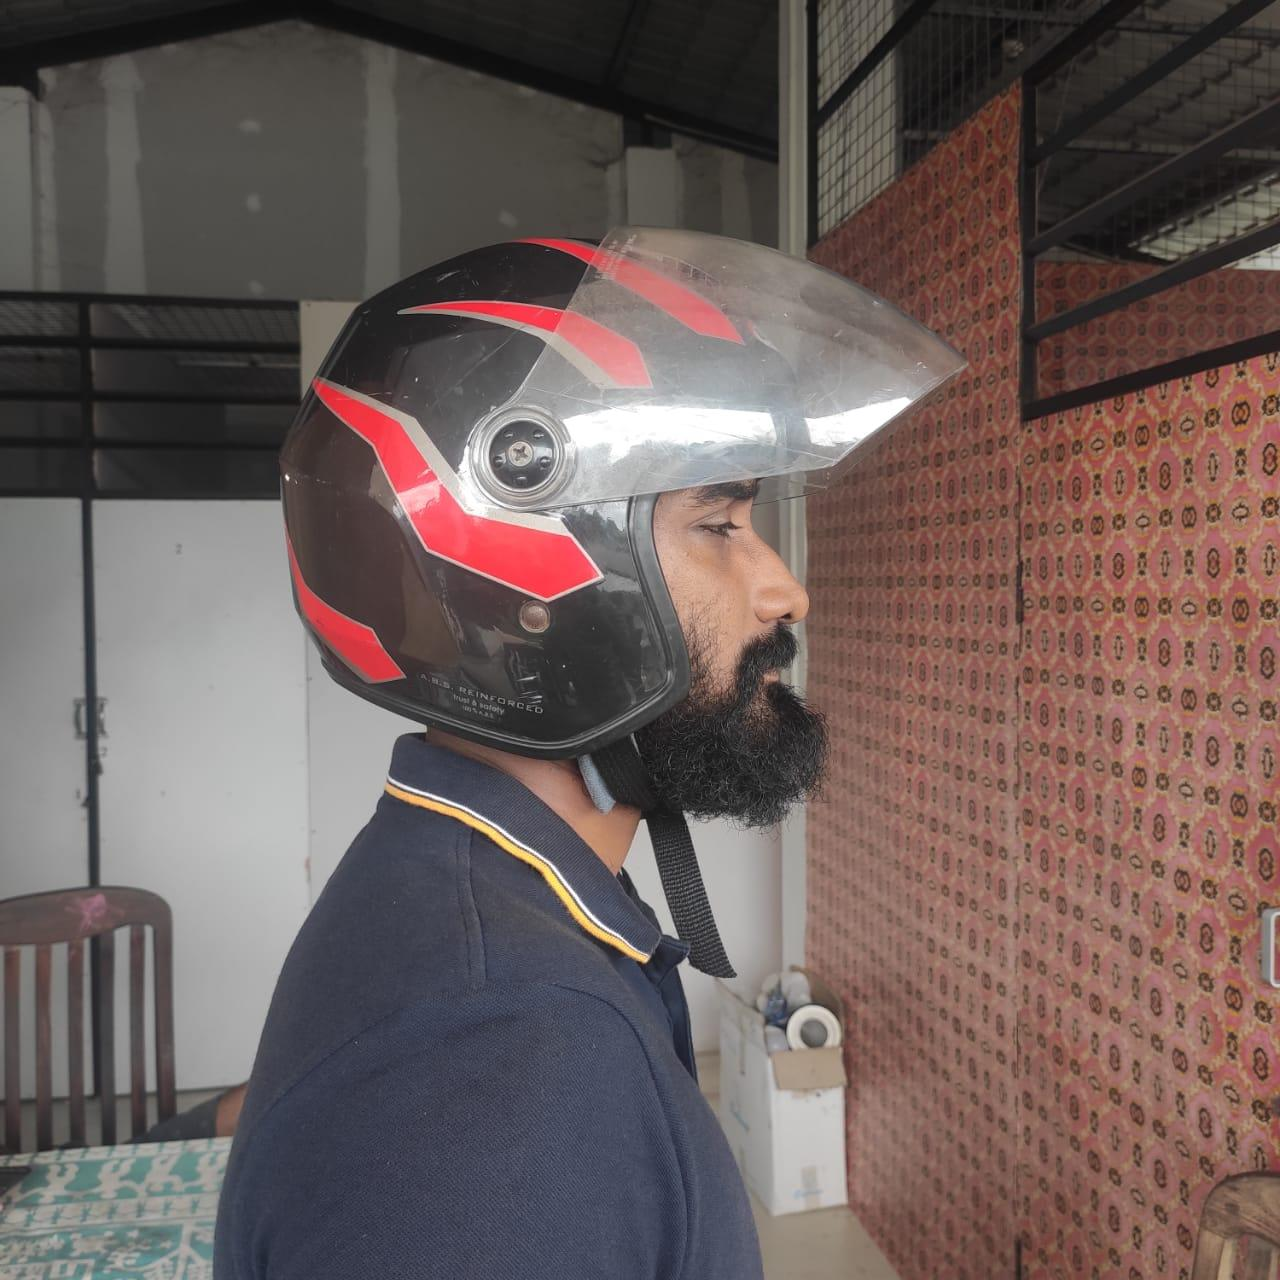helmet: (280, 219, 971, 818)
